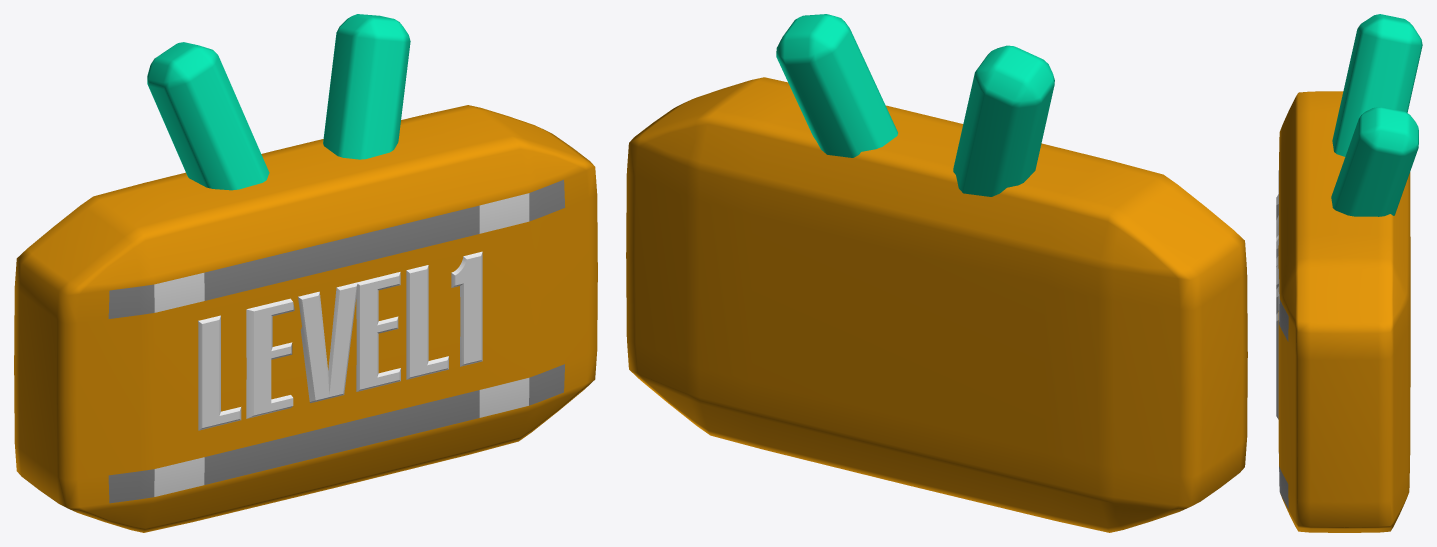
Rendered from text_level1.fbx.
The picture shows the model from 3 angles, left to right: view 1: azimuth 30°, elevation 25°; view 2: azimuth 150°, elevation 25°; view 3: azimuth 270°, elevation 25°; orthographic projection. The views are drawn at different scales.
Parts seen in each view (by area): view 1: text3:typeMesh2; view 2: text3:typeMesh2; view 3: text3:typeMesh2.
Boxes of the visible parts, x1=… form: text3:typeMesh2: x1=14, y1=14, x2=597, y2=532; text3:typeMesh2: x1=626, y1=14, x2=1247, y2=532; text3:typeMesh2: x1=1276, y1=14, x2=1422, y2=532.
Bounding box in the file's own units: 9.72 × 7.45 × 2.52.
